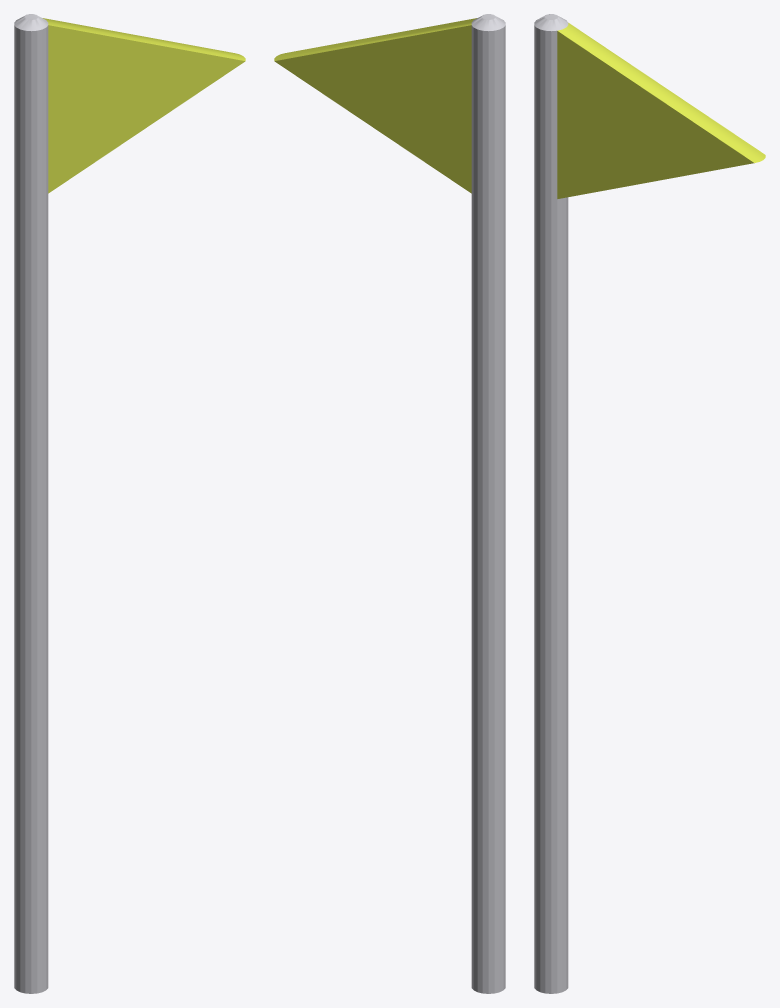
The model's file is Banderín.fbx.
3 renders of one model, left to right at view 1: azimuth 30°, elevation 25°; view 2: azimuth 150°, elevation 25°; view 3: azimuth 330°, elevation 25°, orthographic.
Parts seen in each view (by area): view 1: Cylinder002; view 2: Cylinder002; view 3: Cylinder002.
Boxes of the visible parts, bbox=[...] form: Cylinder002: bbox=[14, 14, 245, 993]; Cylinder002: bbox=[274, 14, 505, 993]; Cylinder002: bbox=[534, 14, 765, 993].
Size of the model in its own units: 201 by 819 by 26.13.
